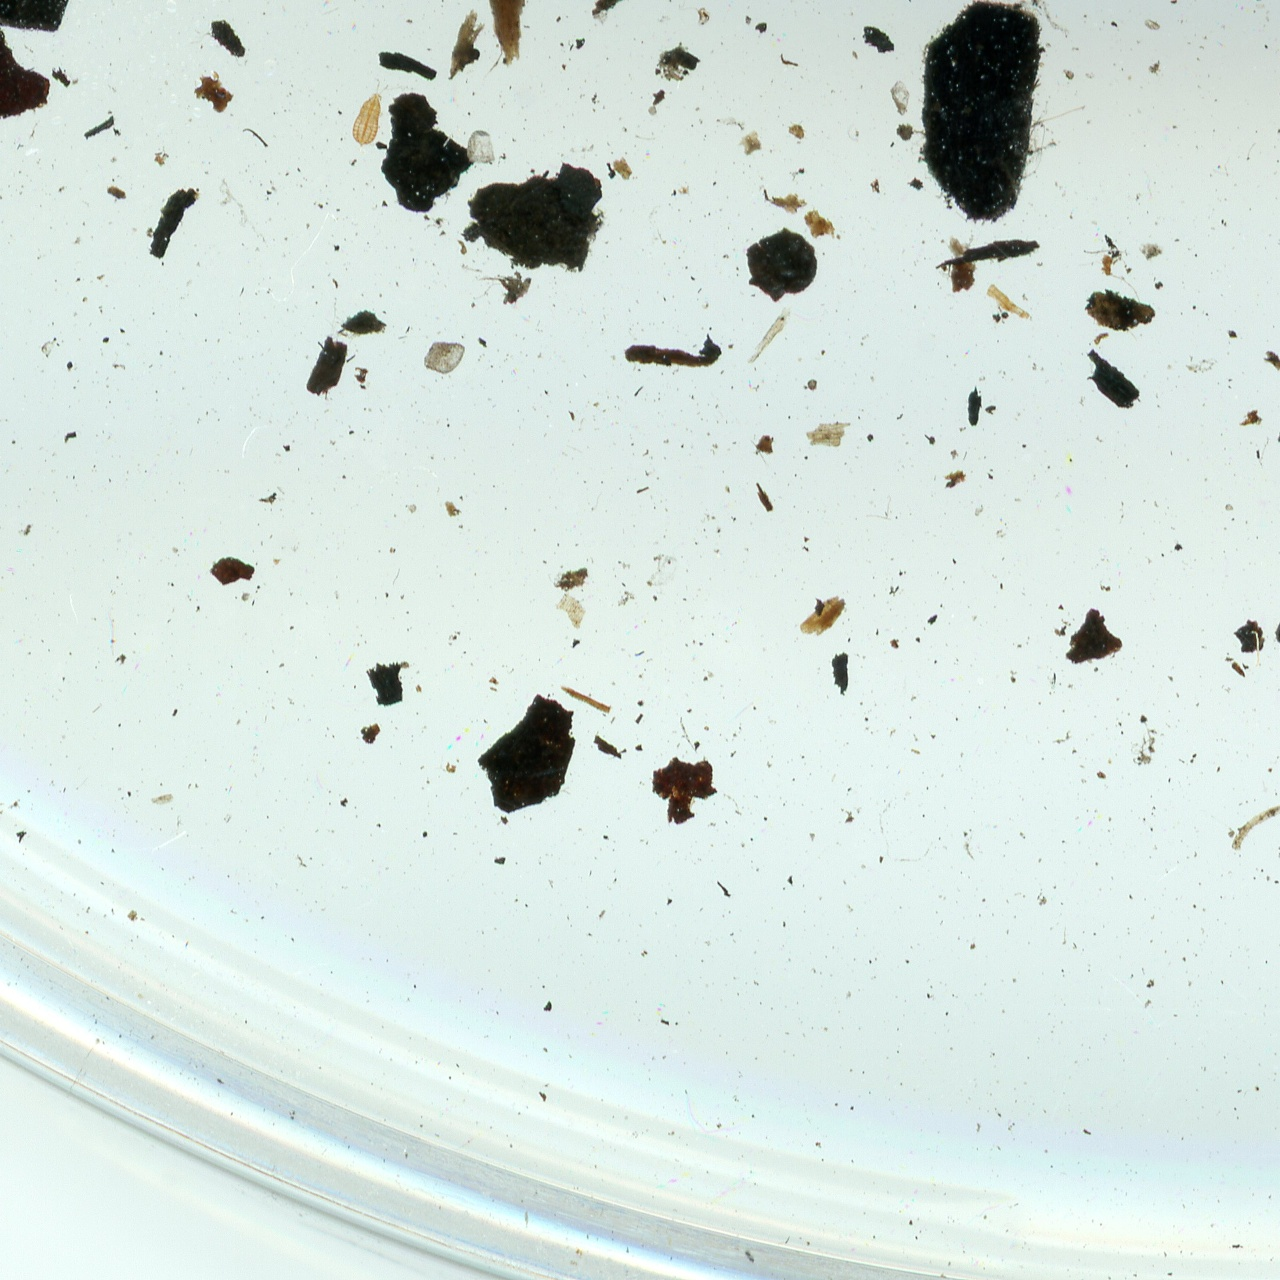arthropod: (347, 75, 393, 150)
